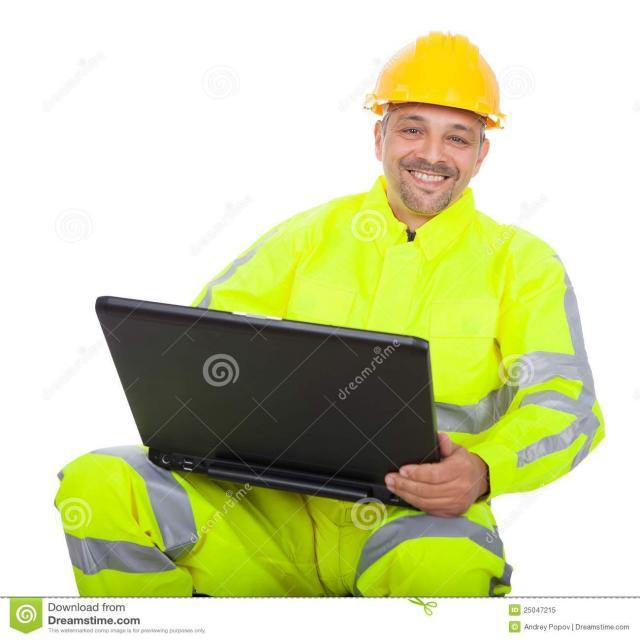reflective_jacket: (195, 188, 602, 572), (51, 453, 547, 593), (55, 447, 202, 595)
safety_helmet: (362, 28, 507, 124)
